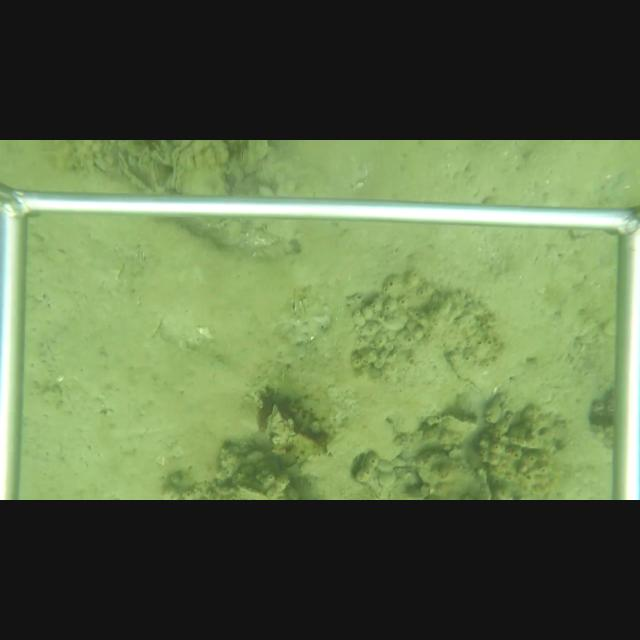Oyster-Closed: (169, 141, 232, 196), (445, 350, 502, 400)
